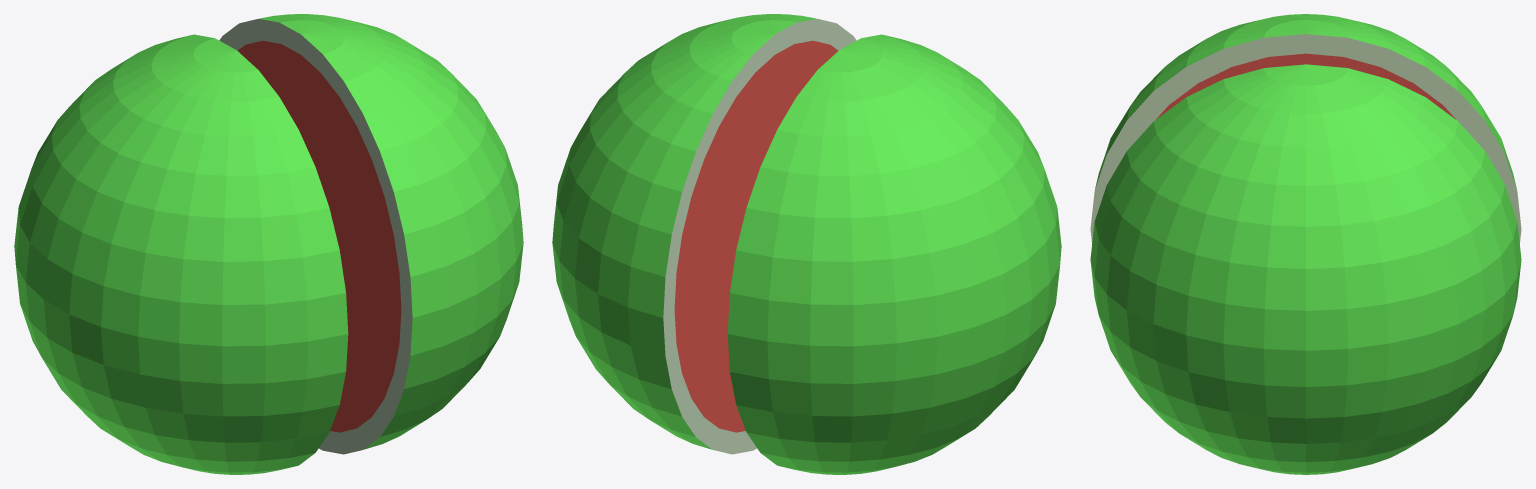
Rendered from Watermelon_Cut.fbx.
The picture shows the model from 3 angles, left to right: view 1: azimuth 30°, elevation 25°; view 2: azimuth 150°, elevation 25°; view 3: azimuth 270°, elevation 25°; orthographic projection. The views are drawn at different scales.
Visible parts, largest first — view 1: Watermelon_Cut_L, Watermelon_Cut_R; view 2: Watermelon_Cut_L, Watermelon_Cut_R; view 3: Watermelon_Cut_R, Watermelon_Cut_L.
Part boxes in pixels (x1,y1,x2,y2): Watermelon_Cut_L: [14, 34, 348, 474]; Watermelon_Cut_R: [219, 14, 523, 454]; Watermelon_Cut_L: [727, 34, 1061, 474]; Watermelon_Cut_R: [552, 14, 856, 454]; Watermelon_Cut_R: [1090, 64, 1521, 474]; Watermelon_Cut_L: [1090, 14, 1521, 243].
Size of the model in its own units: 70 by 60 by 60.
